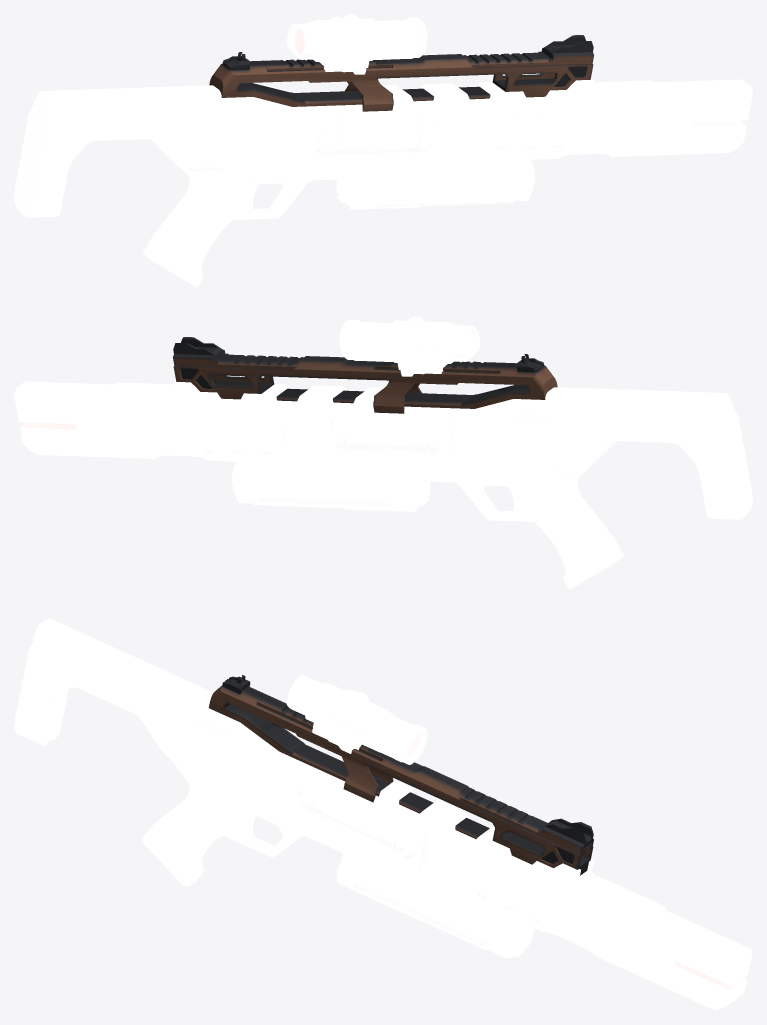
The model's file is Mid_Rattler.glb.
The picture shows the model from 3 angles, top to bottom: view 1: azimuth 30°, elevation 25°; view 2: azimuth 150°, elevation 25°; view 3: azimuth 330°, elevation 25°; orthographic projection.
Parts seen in each view (by area): view 1: Cylinder.009_low_BODY_0, Cube.028_low_HANDLE_0, Cube.029_low_RAIL_0, Cube.035_low_CLIP_0, Cube.036_low_SCOPE_0; view 2: Cylinder.009_low_BODY_0, Cube.028_low_HANDLE_0, Cube.029_low_RAIL_0, Cube.035_low_CLIP_0, Cube.036_low_SCOPE_0; view 3: Cylinder.009_low_BODY_0, Cube.028_low_HANDLE_0, Cube.029_low_RAIL_0, Cube.035_low_CLIP_0, Cube.036_low_SCOPE_0.
Part boxes in pixels (x1,y1,x2,y2): Cylinder.009_low_BODY_0: (14, 79, 594, 217); Cube.028_low_HANDLE_0: (142, 79, 752, 287); Cube.029_low_RAIL_0: (209, 35, 593, 111); Cube.035_low_CLIP_0: (336, 159, 534, 209); Cube.036_low_SCOPE_0: (286, 14, 427, 74); Cylinder.009_low_BODY_0: (172, 381, 752, 519); Cube.028_low_HANDLE_0: (14, 381, 624, 589); Cube.029_low_RAIL_0: (173, 337, 557, 413); Cube.035_low_CLIP_0: (232, 461, 430, 511); Cube.036_low_SCOPE_0: (339, 316, 480, 376); Cylinder.009_low_BODY_0: (14, 618, 594, 939); Cube.028_low_HANDLE_0: (142, 765, 752, 1010); Cube.029_low_RAIL_0: (208, 675, 593, 875); Cube.035_low_CLIP_0: (336, 845, 534, 958); Cube.036_low_SCOPE_0: (286, 675, 427, 764).
Bounding box in the file's own units: 14.72 × 4.52 × 1.06.
5 materials, 5 textured.
